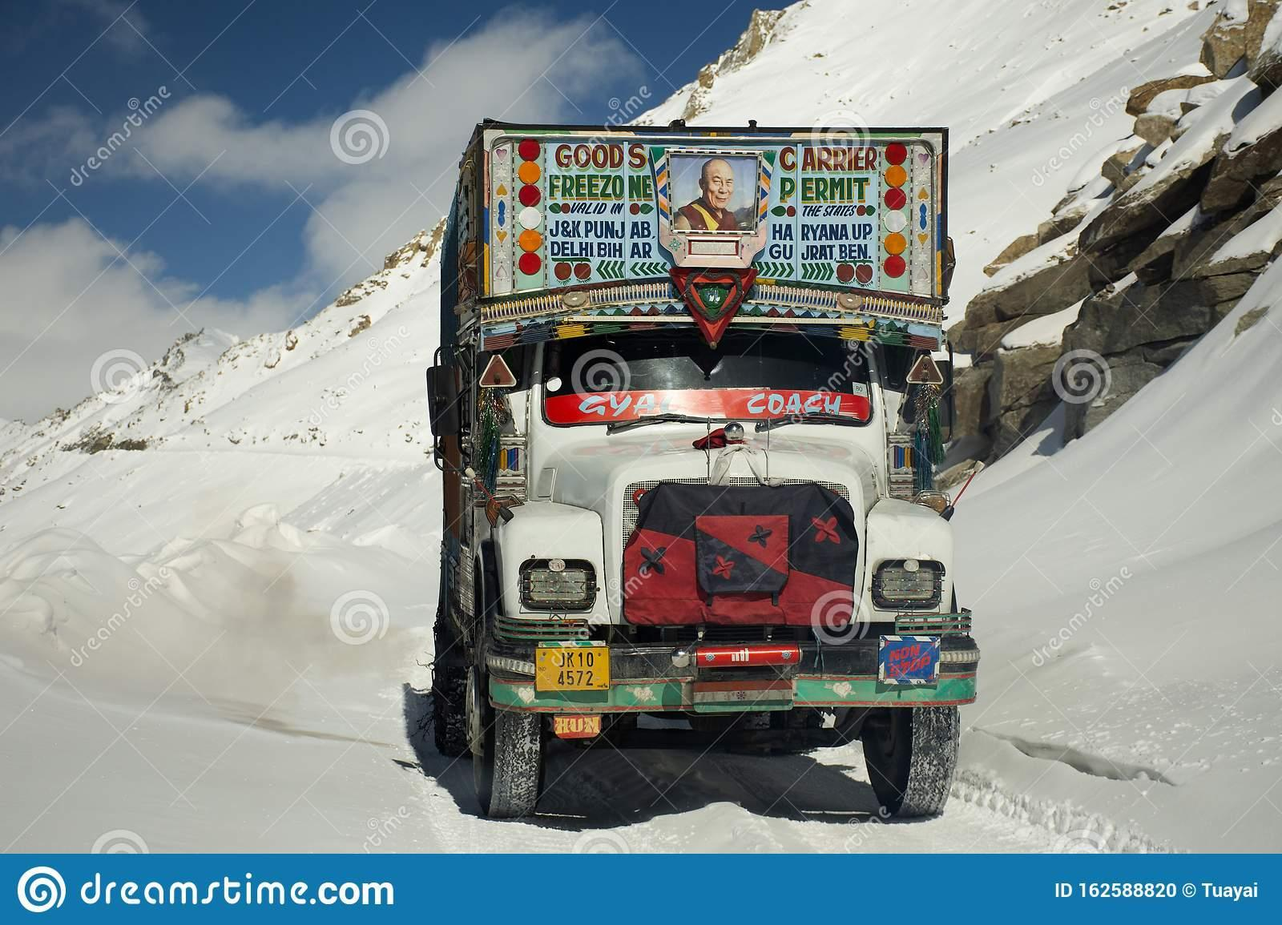truck: (421, 111, 999, 833)
